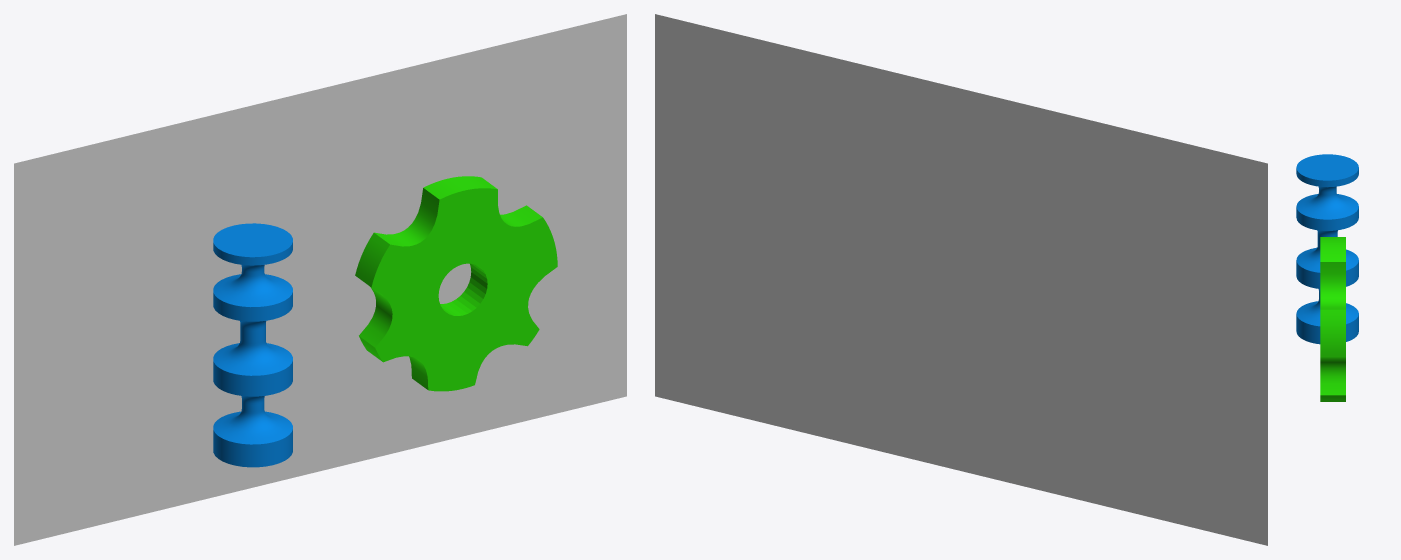
The model's file is world.glb.
3 views of the same model, side by side, from view 1: azimuth 30°, elevation 25°; view 2: azimuth 150°, elevation 25°; view 3: azimuth 270°, elevation 25° (orthographic). The views are drawn at different scales.
Visible parts, largest first — view 1: Plane, Circle, Cylinder.001; view 2: Plane; view 3: Cylinder.001, Circle.
Boxes of the visible parts, bbox=[...] form: Plane: bbox=[14, 14, 626, 545]; Circle: bbox=[355, 176, 557, 391]; Cylinder.001: bbox=[213, 223, 292, 467]; Plane: bbox=[655, 14, 1267, 545]; Cylinder.001: bbox=[1296, 154, 1358, 344]; Circle: bbox=[1320, 237, 1345, 401].
Bounding box in the file's own units: 2.82 × 1.68 × 0.4594.
